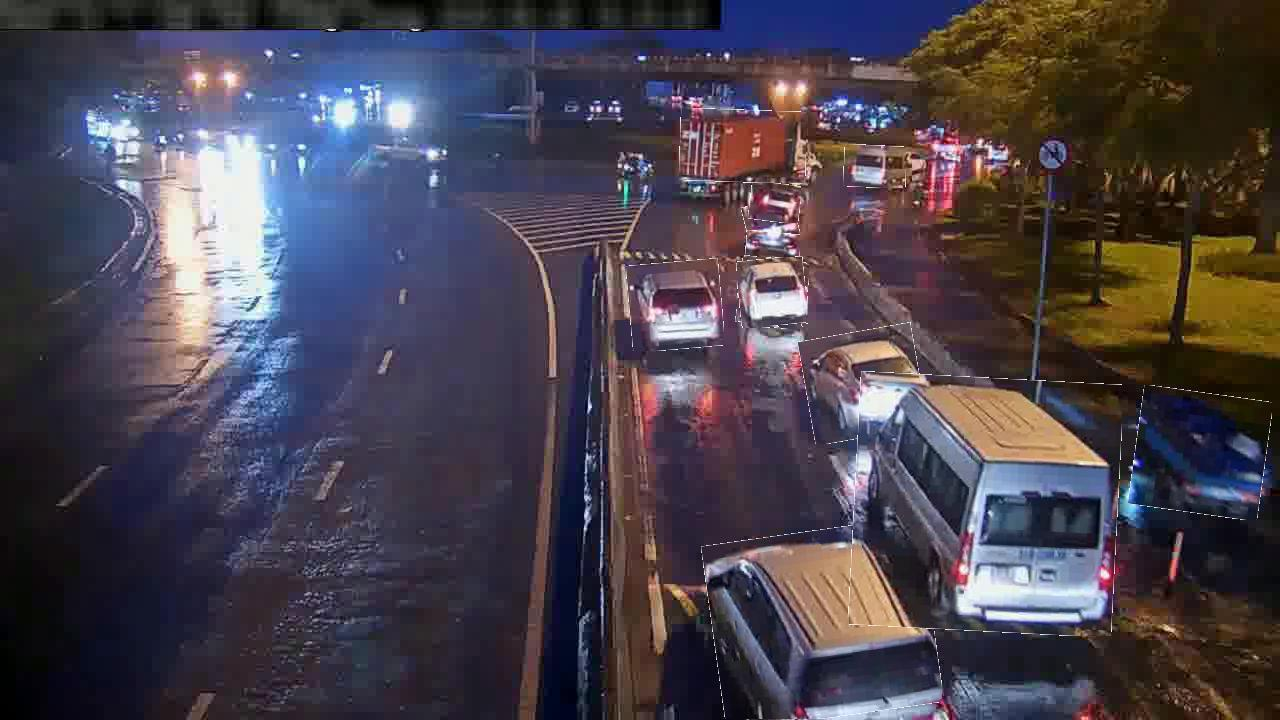14: (851, 375, 1120, 634), (738, 258, 808, 328), (844, 145, 907, 189)
8: (680, 109, 807, 183)
container: (707, 523, 938, 719), (1132, 389, 1270, 517), (802, 327, 924, 441), (628, 260, 724, 351), (737, 257, 808, 328), (744, 199, 799, 250), (745, 231, 801, 274), (749, 183, 801, 223)
